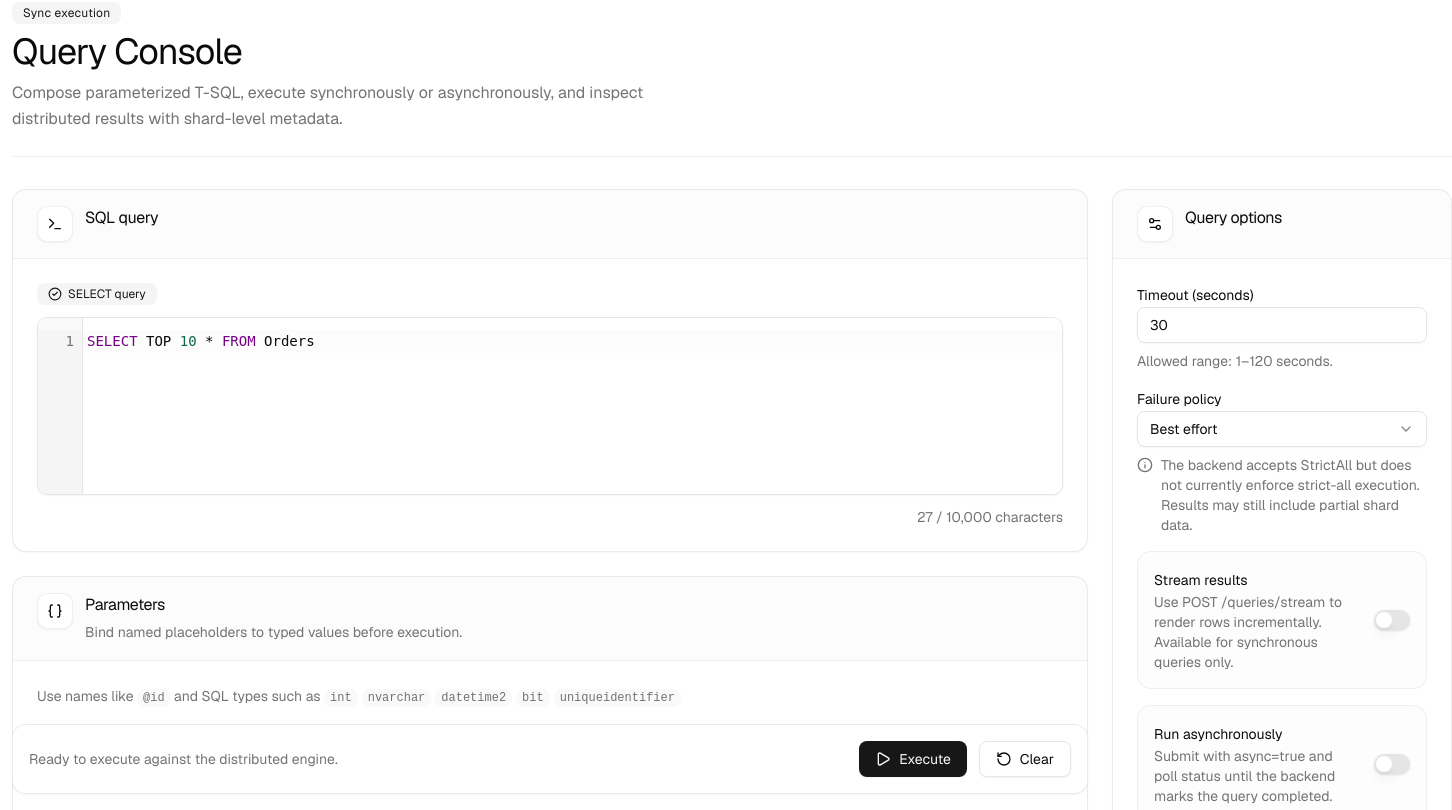
it: QueryConsolePage › shows streaming failures once without a duplicate execution alert
The image size is (1452, 810).
Click the switch named "Stream results" below "Stream results": [1392, 620] box [1374,610,1410,630]
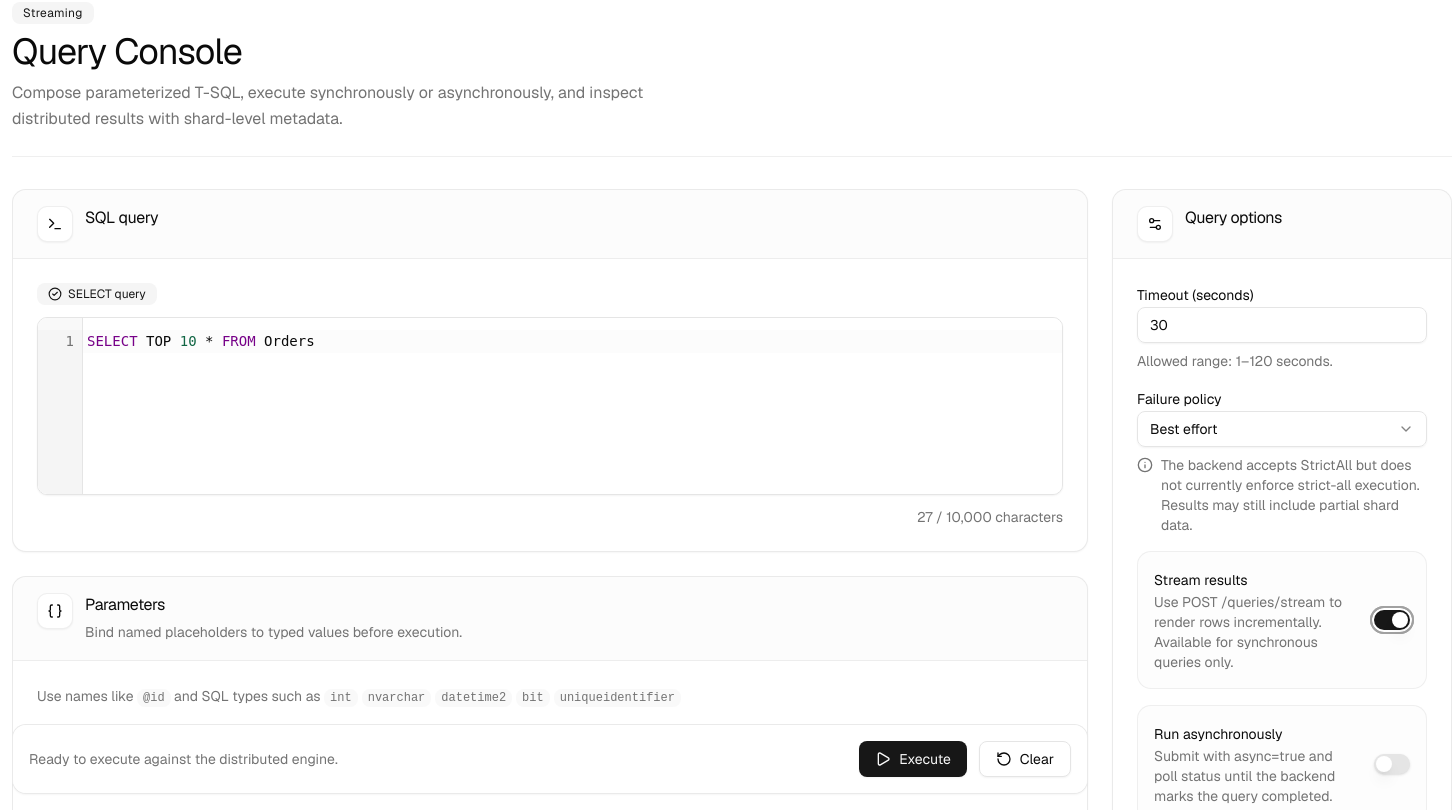
Click the button "Execute": [913, 759] box [859,741,967,777]
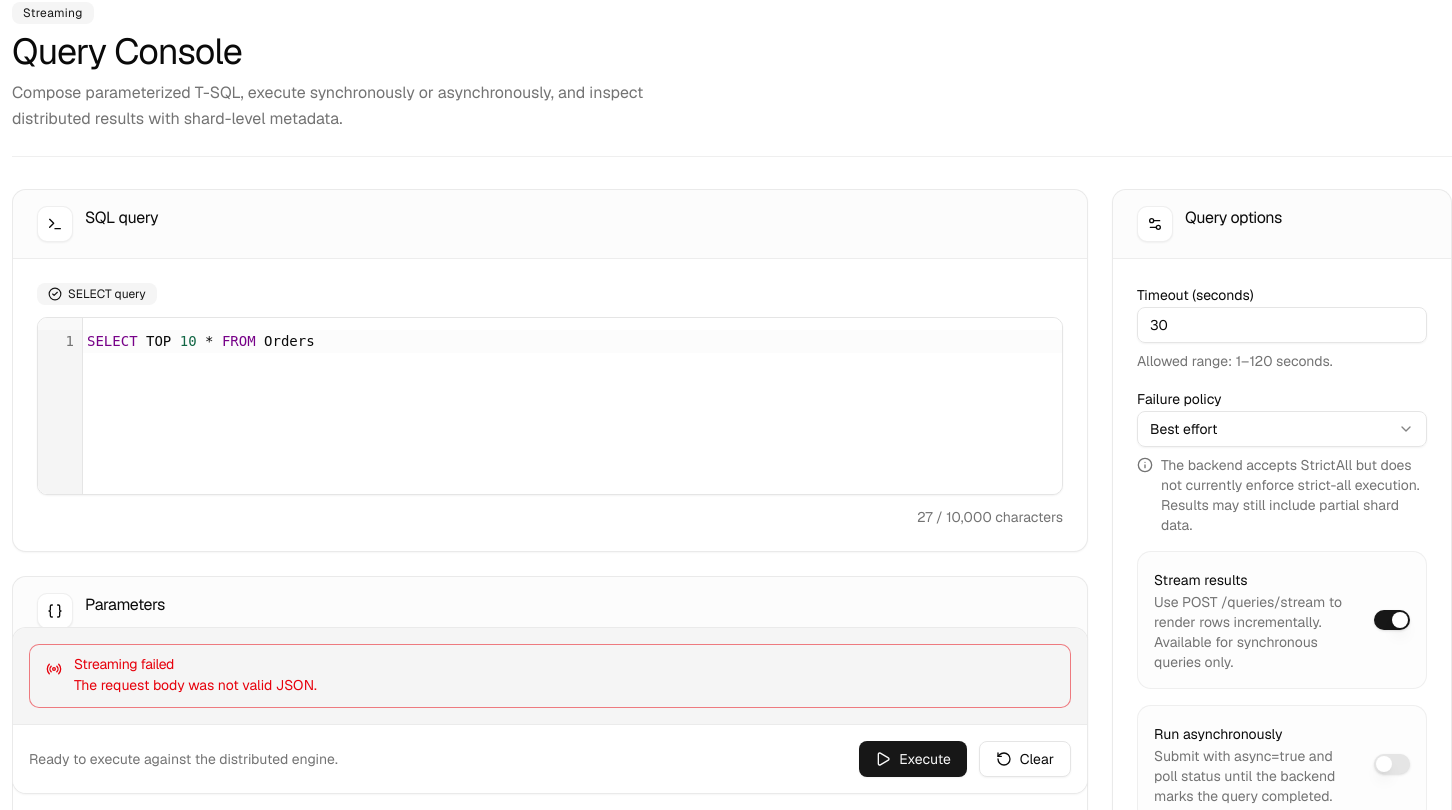
Result: the number of messages is 1 at [29,644,1071,708]
Result: the message shows "Streaming failed" at [74,655,174,673]
Result: the message shows "The request body was not valid JSON." at [74,676,317,694]
